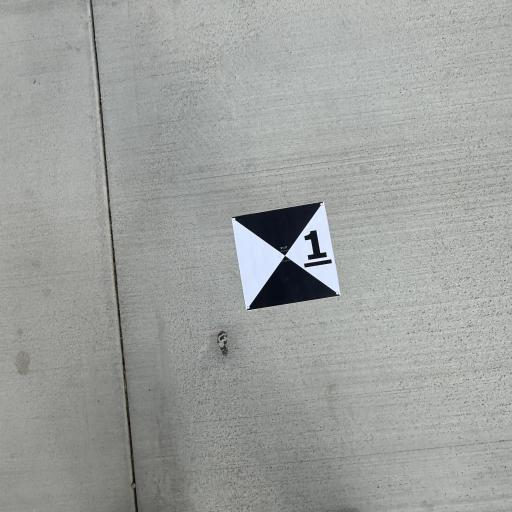target1: (225, 196, 345, 314)
